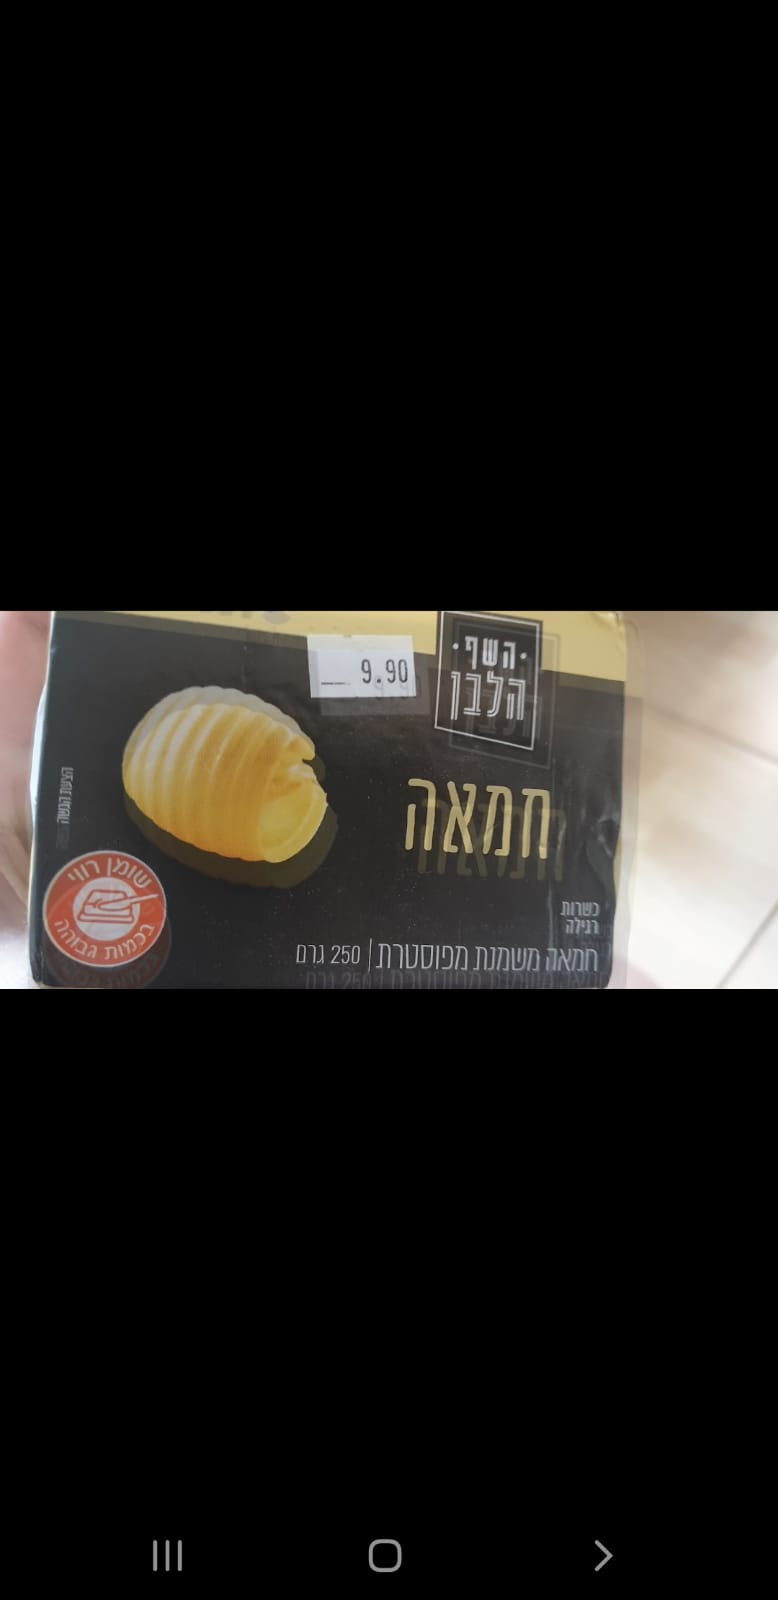fat: (43, 846, 171, 973)
